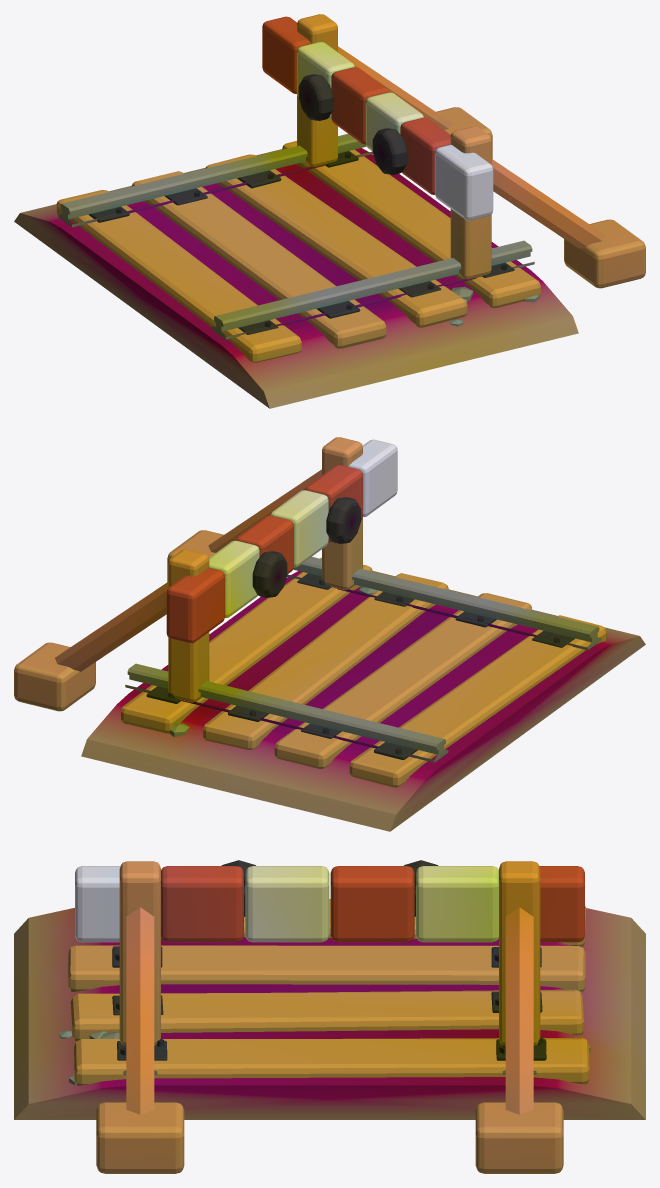
The model's file is Track_BufferStop.glb.
The picture shows the model from 3 angles, top to bottom: view 1: azimuth 30°, elevation 25°; view 2: azimuth 150°, elevation 25°; view 3: azimuth 270°, elevation 25°; orthographic projection. The views are drawn at different scales.
Visible parts, largest first — view 1: Track_BufferStop; view 2: Track_BufferStop; view 3: Track_BufferStop.
Boxes of the visible parts, x1=… form: Track_BufferStop: x1=14, y1=14, x2=645, y2=408; Track_BufferStop: x1=14, y1=437, x2=645, y2=831; Track_BufferStop: x1=14, y1=860, x2=645, y2=1173.
Size of the model in its own units: 4 by 1.64 by 4.3.
